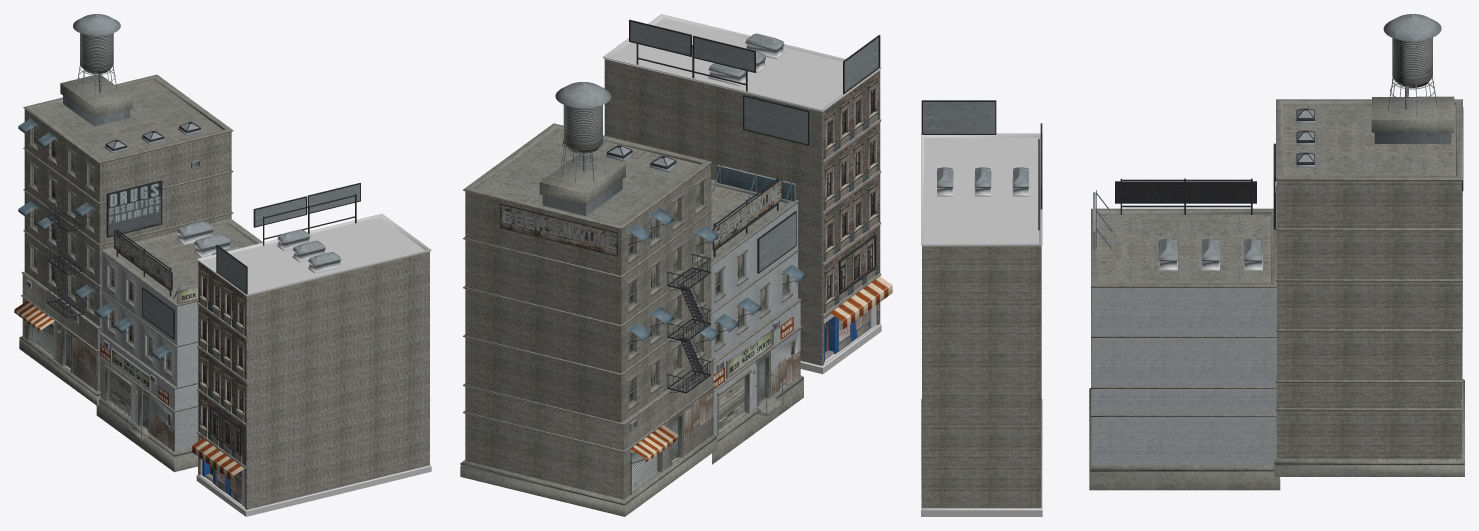
File: u2NEBuild2.gltf
3 renders of one model, left to right at view 1: azimuth 30°, elevation 25°; view 2: azimuth 150°, elevation 25°; view 3: azimuth 270°, elevation 25°, orthographic. The views are drawn at different scales.
Parts seen in each view (by area): view 1: u2NEBuild2; view 2: u2NEBuild2; view 3: u2NEBuild2.
Part boxes in pixels (box(x1,y1,x2,y2)): u2NEBuild2: box(14, 14, 431, 516); u2NEBuild2: box(460, 14, 892, 516); u2NEBuild2: box(921, 14, 1464, 516).
Size of the model in its own units: 7.64 by 12.49 by 14.41.
